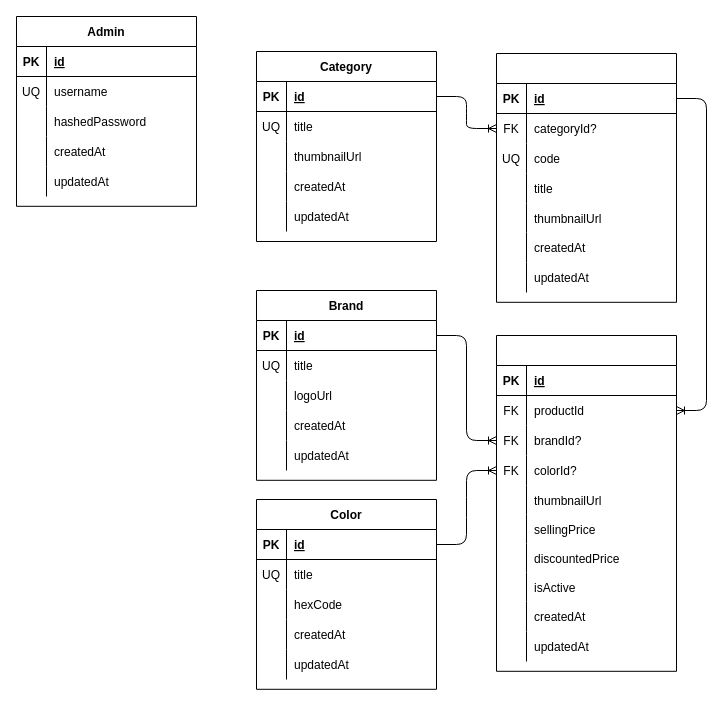
The diagram is 723 pixels wide and 706 high, and some of its shapes have lost their labels. The box of each missing label's shape, as (x1, y1, x2, y2) in pixels:
Product: (496, 52, 676, 302)
ProductVariant: (496, 334, 676, 671)
